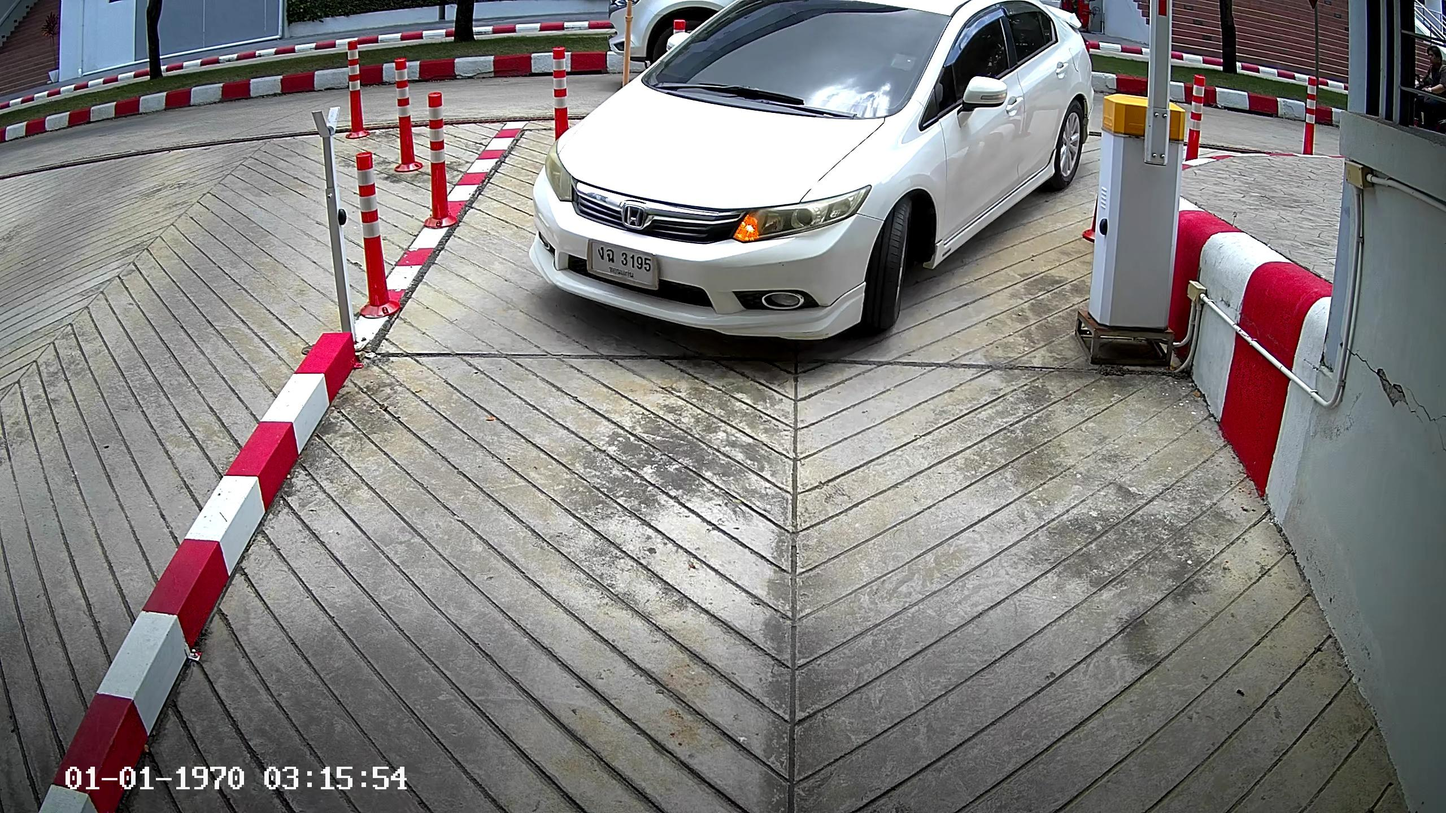car: (528, 3, 1092, 346)
license-plate: (584, 233, 662, 295)
